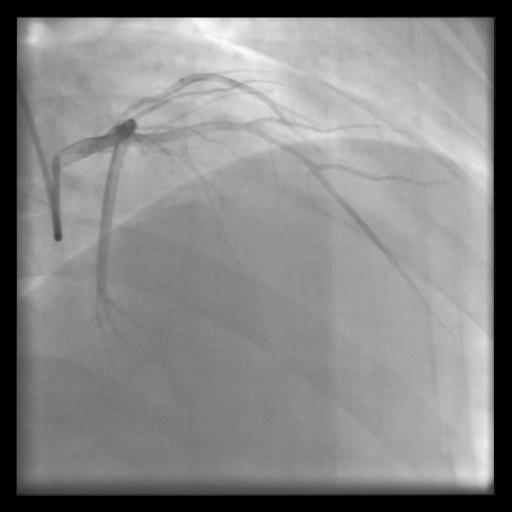Stenosis: (109, 96, 155, 117)
